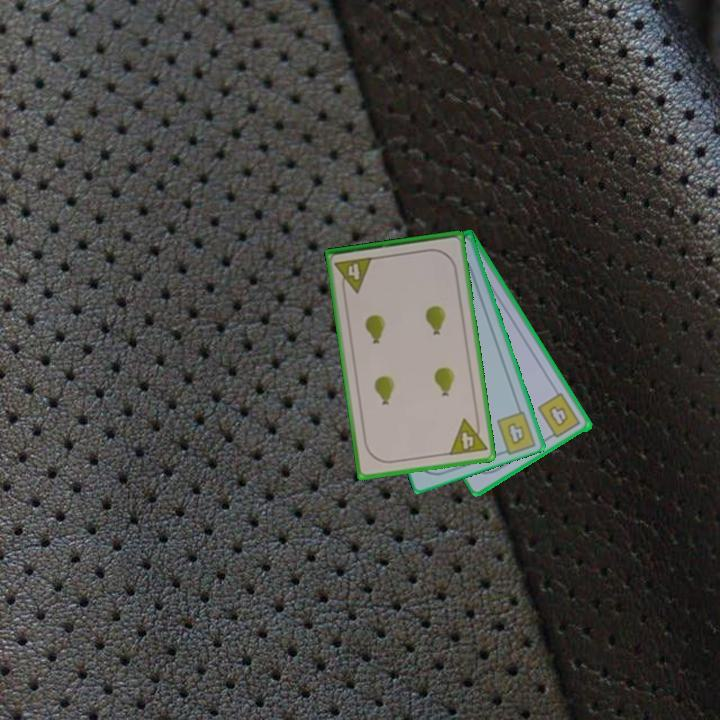4b: (534, 390, 584, 442), (504, 419, 528, 448)
4p: (445, 414, 490, 458), (331, 253, 376, 297)
